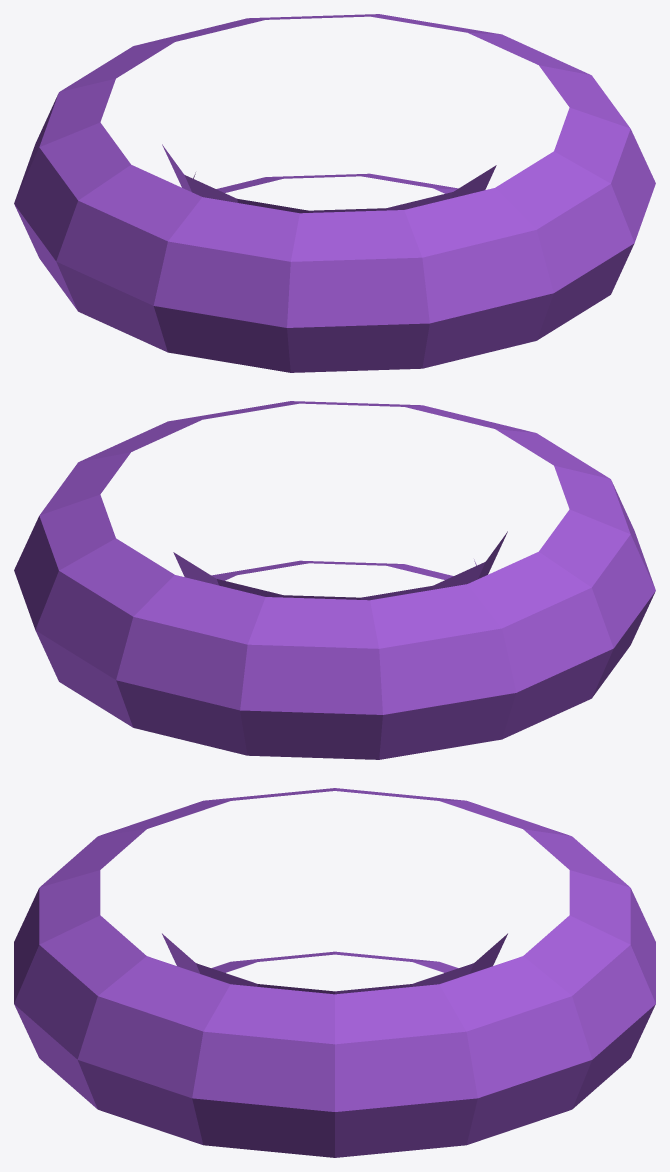
3 views of the same model, one above another, from view 1: azimuth 30°, elevation 25°; view 2: azimuth 150°, elevation 25°; view 3: azimuth 270°, elevation 25° (orthographic). The views are drawn at different scales.
Visible parts, largest first — view 1: torus; view 2: torus; view 3: torus.
Part boxes in pixels (x1,y1,x2,y2): torus: [14, 14, 655, 372]; torus: [14, 401, 655, 759]; torus: [14, 788, 655, 1157].
Bounding box in the file's own units: 1.04 × 0.28 × 1.01.
1 material, 1 textured.
